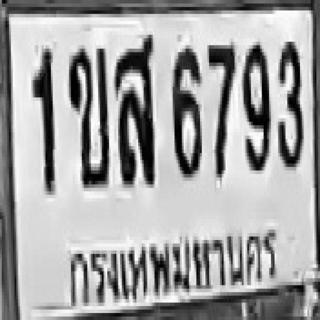A02: (67, 45, 107, 184)
A40: (113, 31, 153, 181)
N01: (31, 45, 53, 191)
N03: (276, 36, 302, 165)
N06: (171, 42, 200, 174)
N07: (206, 42, 234, 174)
N09: (242, 38, 269, 167)
P04: (55, 225, 288, 309)
